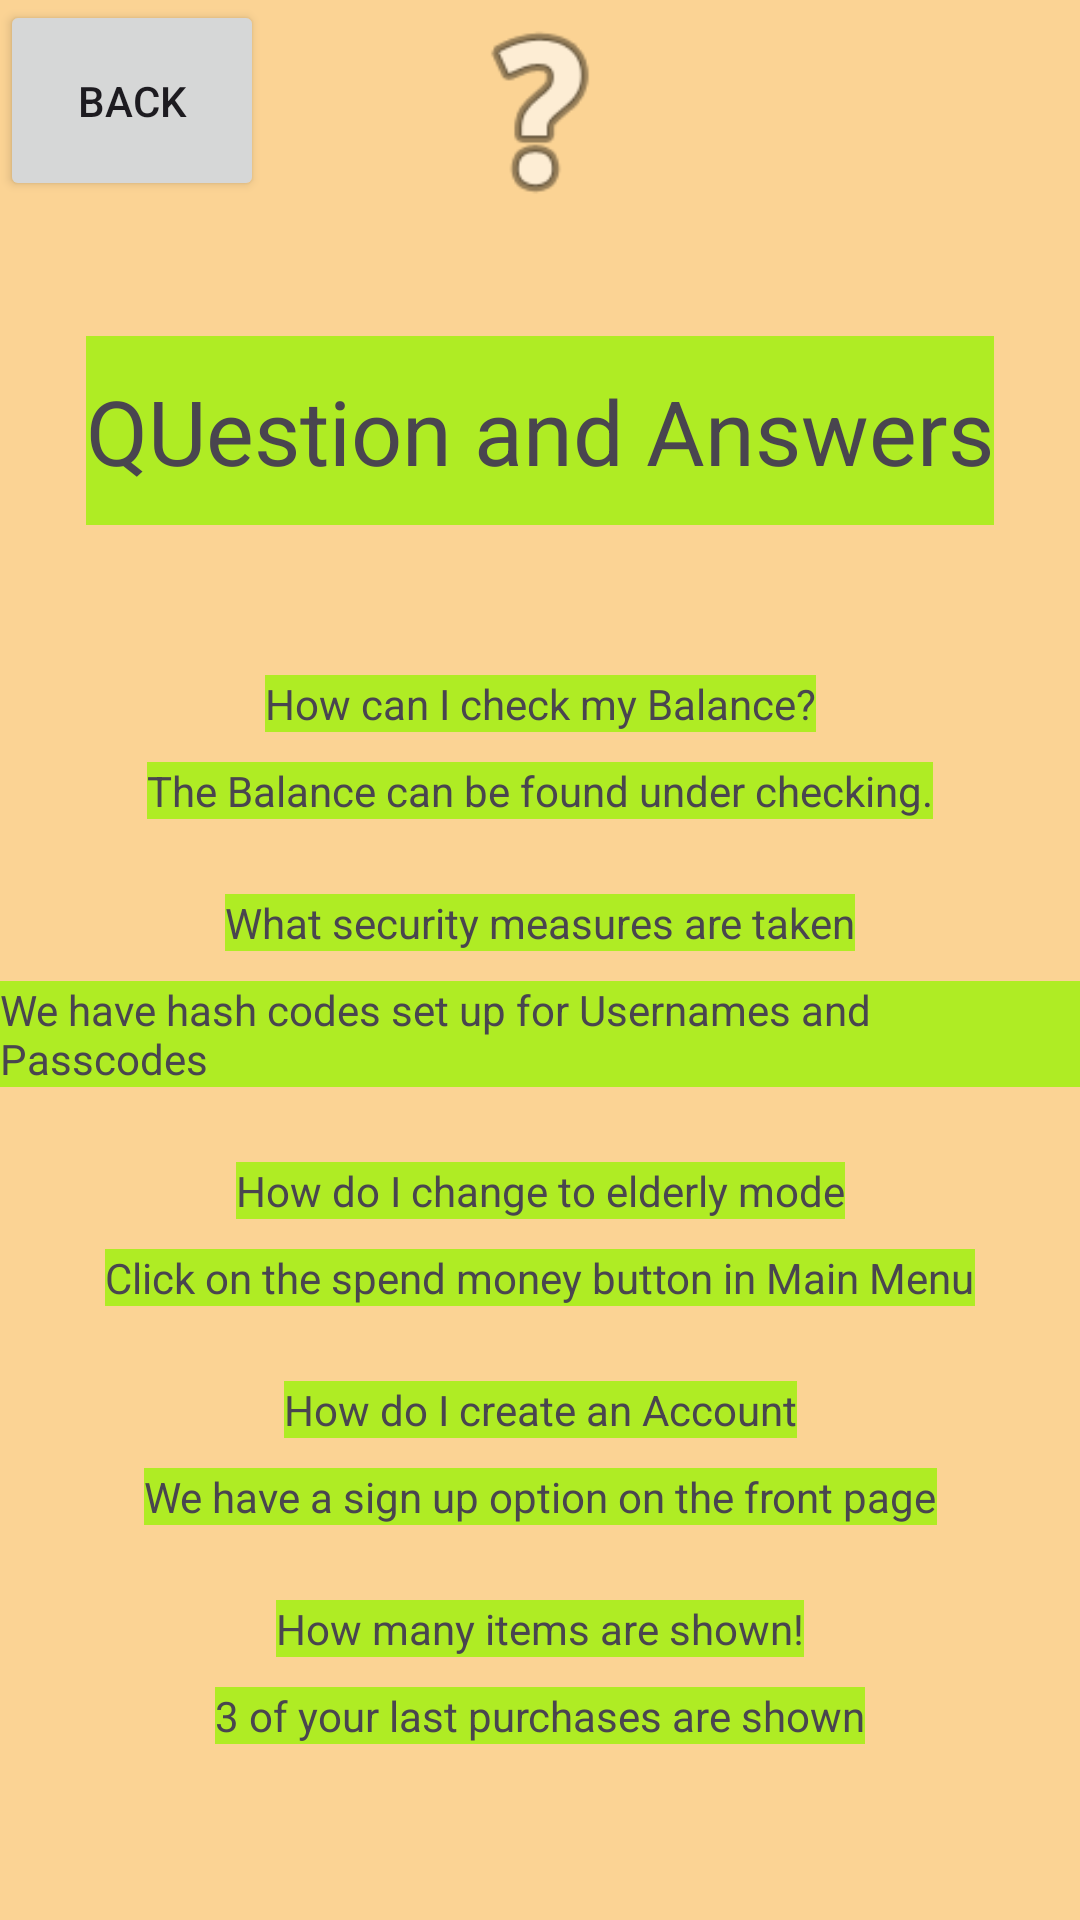

Icons on this 1080 x 1920 Android screen, each with the point to tap as (x,y):
help: (540,112)
